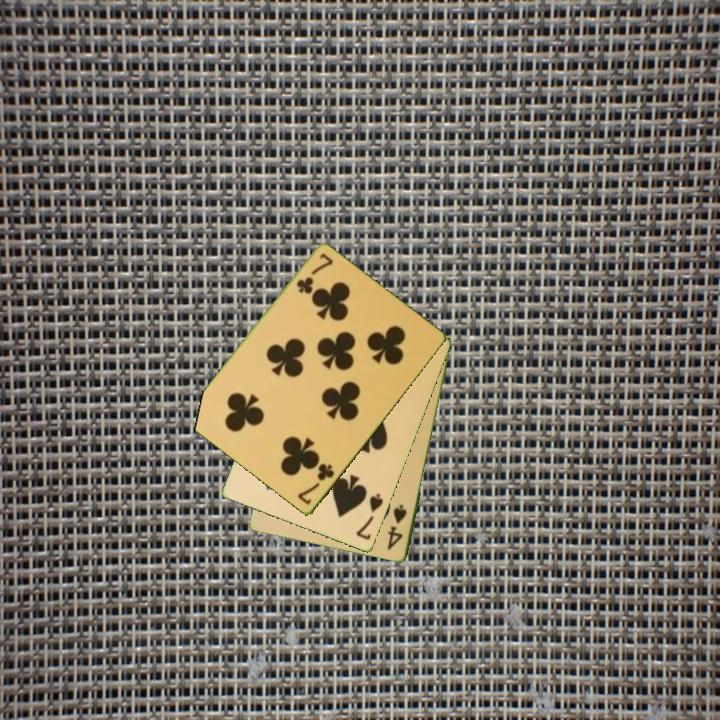4s: (384, 501, 410, 553)
7c: (294, 460, 337, 508), (293, 250, 335, 297)
7s: (353, 490, 387, 543)
